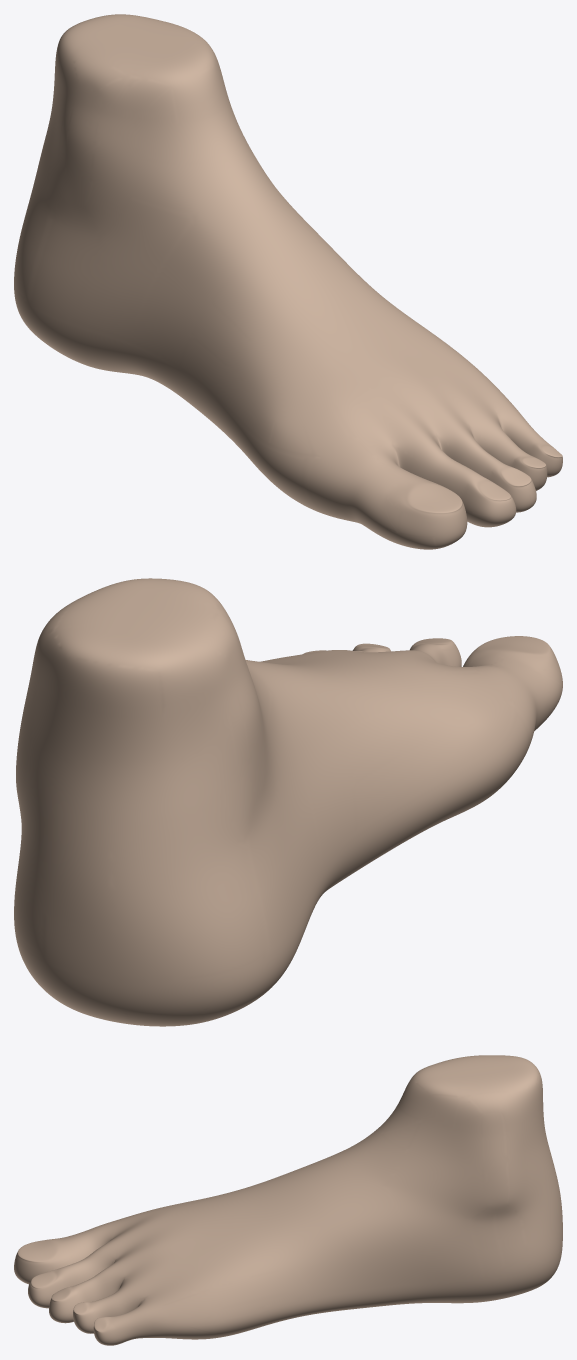
File: sculpt-foot.glb
The picture shows the model from 3 angles, top to bottom: view 1: azimuth 30°, elevation 25°; view 2: azimuth 150°, elevation 25°; view 3: azimuth 270°, elevation 25°; orthographic projection. The views are drawn at different scales.
Visible parts, largest first — view 1: sculpt-foot; view 2: sculpt-foot; view 3: sculpt-foot.
Boxes of the visible parts, x1,y1,x2,y2 form: sculpt-foot: [14, 14, 562, 549]; sculpt-foot: [14, 578, 562, 1026]; sculpt-foot: [14, 1055, 562, 1345].
Bounding box in the file's own units: 0.1126 × 0.1181 × 0.26.
